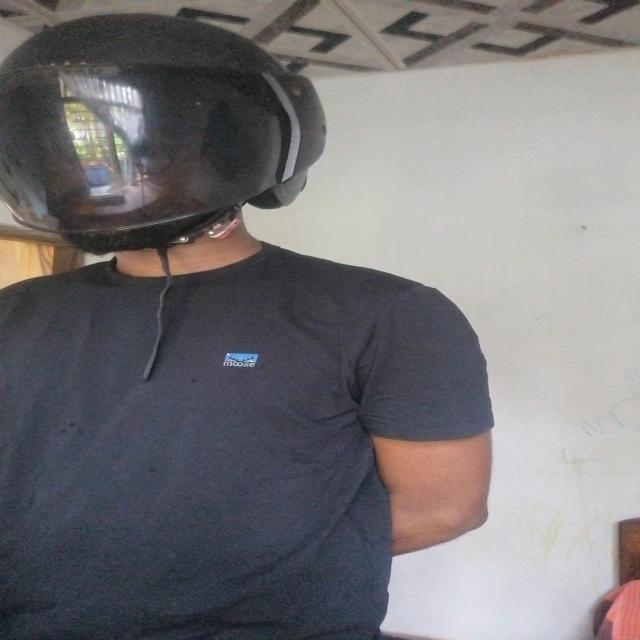Helmet_Wearer: (0, 11, 308, 332)
Person: (0, 4, 496, 628)
